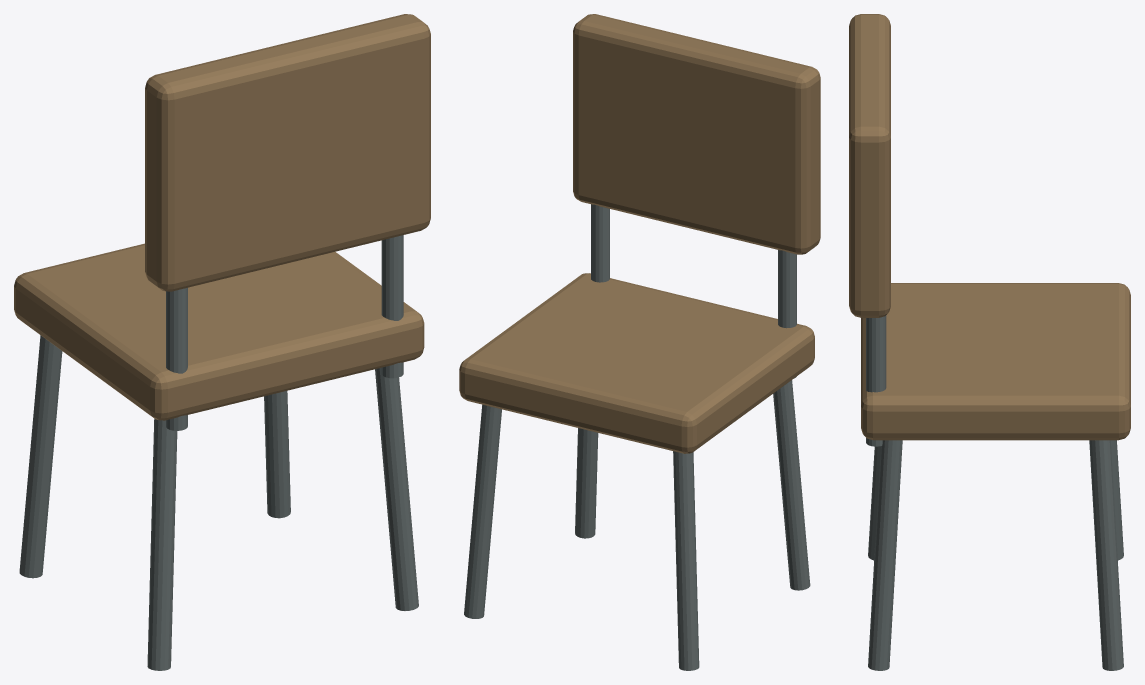
Rendered from chair.glb.
3 views of the same model, side by side, from view 1: azimuth 30°, elevation 25°; view 2: azimuth 150°, elevation 25°; view 3: azimuth 270°, elevation 25° (orthographic). The views are drawn at different scales.
Parts seen in each view (by area): view 1: chair; view 2: chair; view 3: chair.
Part boxes in pixels (left/top/right/bottom): chair: left=14, top=14, right=430, bottom=670; chair: left=459, top=14, right=820, bottom=670; chair: left=849, top=14, right=1130, bottom=670.
Size of the model in its own units: 0.48 by 0.9965 by 0.47.
